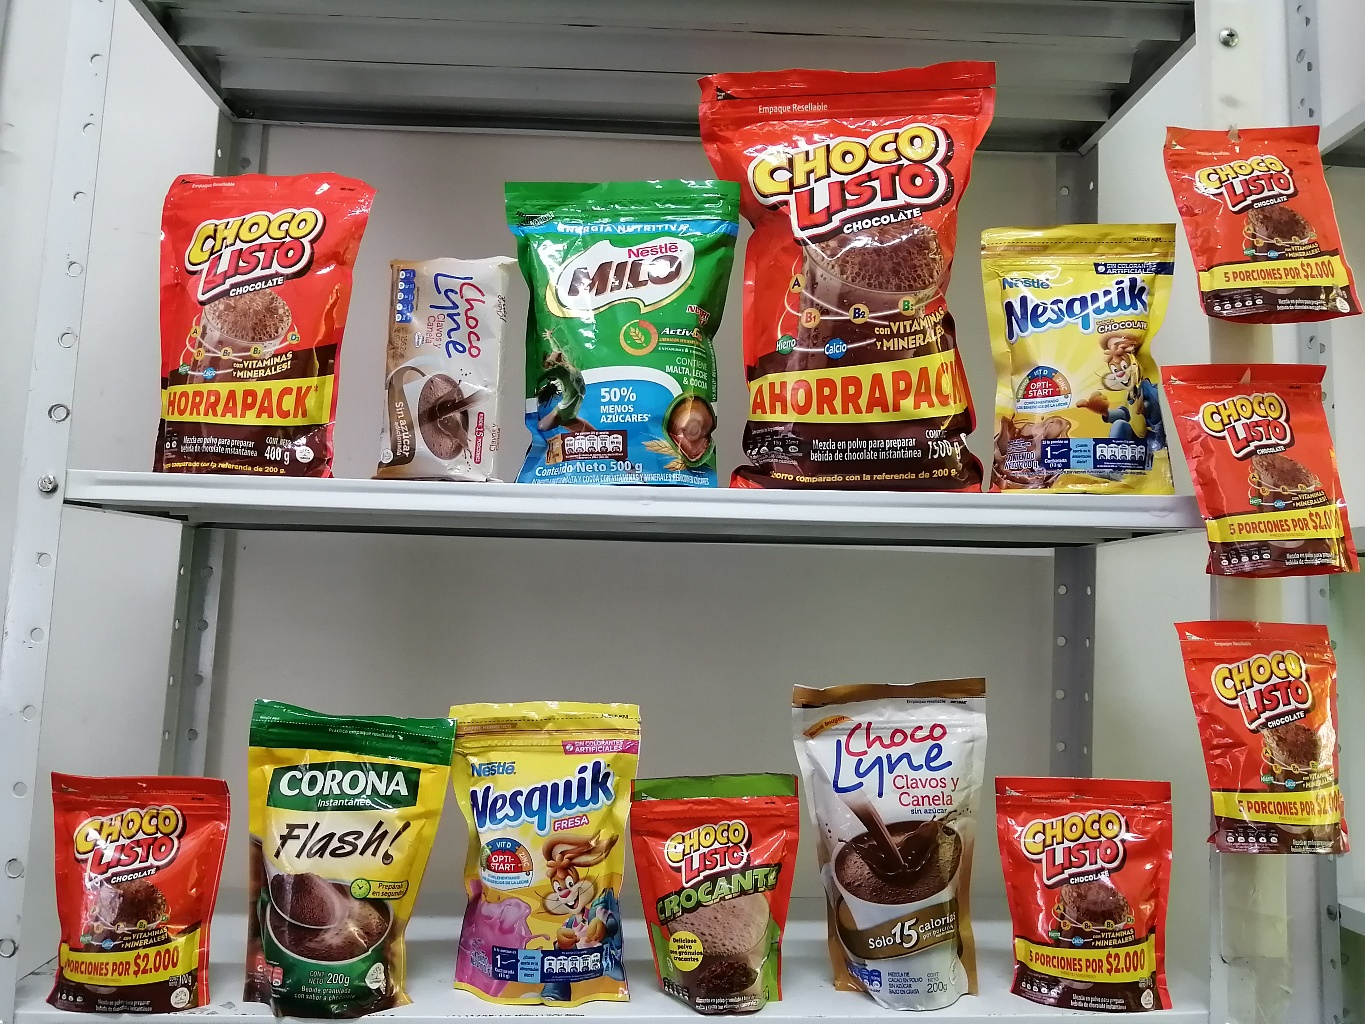COL0170102DYP10000: (631, 769, 795, 1024)
COL0170103DYP1,500: (698, 58, 1011, 487)
COL0170103DYP10000: (34, 781, 239, 1015)
COL0170103DYP40000: (150, 173, 364, 481)
COL0170205DYP50000: (498, 173, 750, 492)
COL0170303DYP20000: (987, 226, 1174, 506)
COL0170305DYP20000: (453, 698, 660, 1012)
